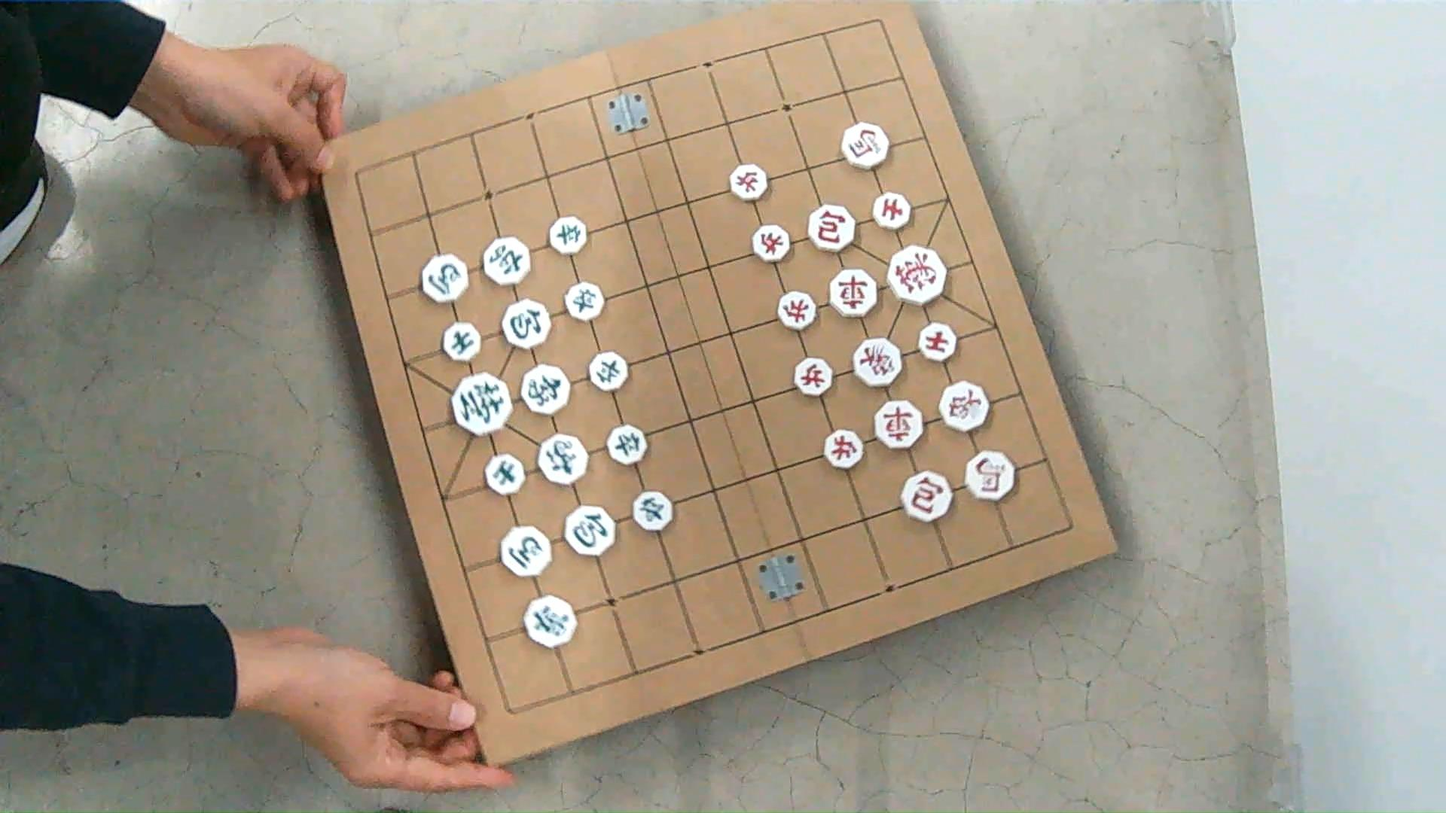cha_green: (526, 595, 576, 647), (483, 237, 531, 285)
cha_red: (875, 400, 923, 449), (830, 269, 877, 317)
jol_green: (633, 491, 673, 531), (608, 425, 647, 464), (589, 352, 628, 391), (565, 282, 604, 320), (549, 216, 587, 254)
jol_red: (825, 430, 863, 469), (777, 292, 816, 330), (794, 358, 831, 396), (730, 163, 767, 200), (753, 225, 789, 263)
ma_green: (501, 526, 551, 577), (420, 254, 468, 303)
ma_red: (965, 451, 1015, 501), (841, 123, 889, 169)
po_green: (565, 506, 615, 556), (502, 300, 550, 349)
po_red: (901, 471, 951, 522), (808, 206, 854, 251)
sa_green: (485, 454, 524, 495), (443, 323, 481, 361)
sa_red: (918, 322, 957, 361), (873, 192, 911, 230)
sang_green: (520, 364, 569, 415), (538, 434, 587, 484)
sang_red: (941, 381, 989, 431), (853, 338, 901, 387)
wang_green: (452, 373, 511, 435)
wang_red: (889, 245, 946, 305)
